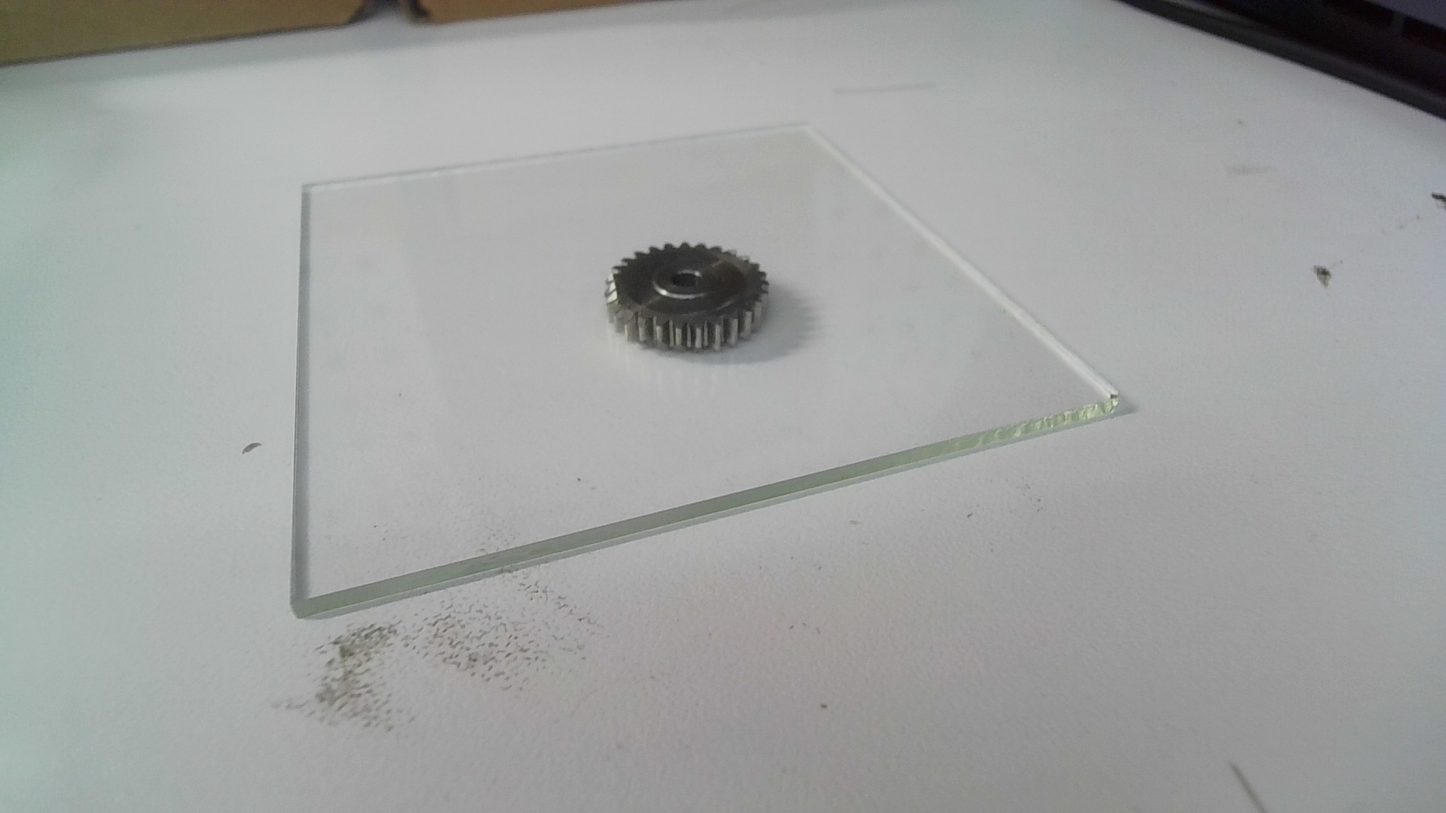gear: (602, 241, 775, 359)
